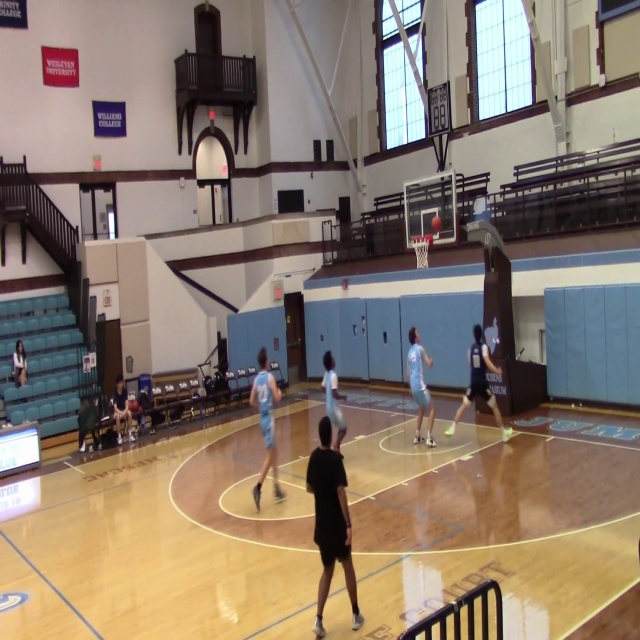Basketball: (431, 216, 441, 232), (127, 399, 139, 412)
